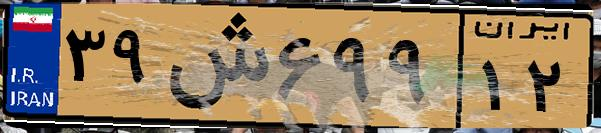1: (475, 38, 525, 113)
2: (525, 38, 570, 115)
3: (57, 26, 110, 100)
6: (270, 28, 330, 110)
9: (385, 28, 445, 110), (330, 28, 385, 110), (110, 28, 158, 98)
ش: (158, 12, 270, 120)
